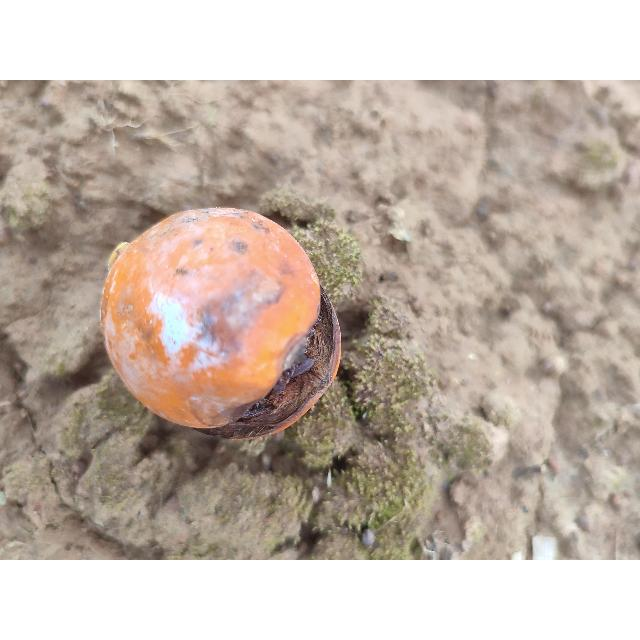damaged: (98, 208, 340, 440)
